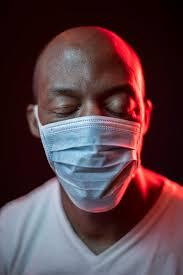Wearing Mask: (23, 24, 156, 218)
